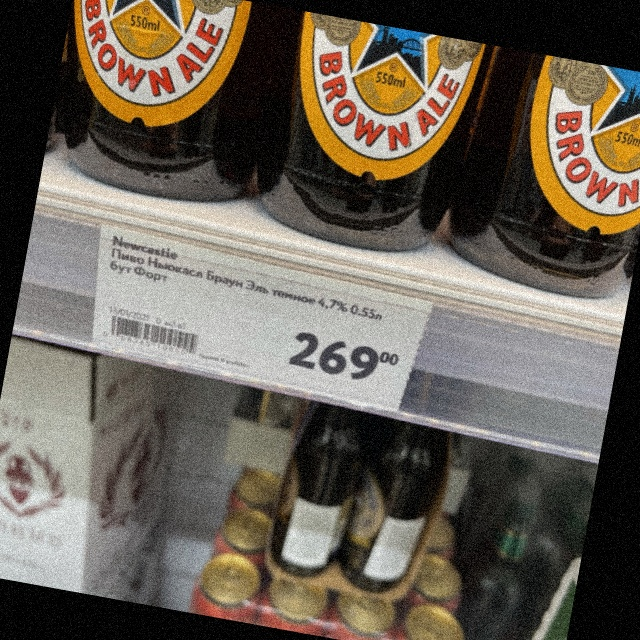barcode: (103, 314, 198, 357)
name: (107, 232, 383, 324)
price: (287, 329, 400, 382)
price_tag: (94, 223, 435, 420)
